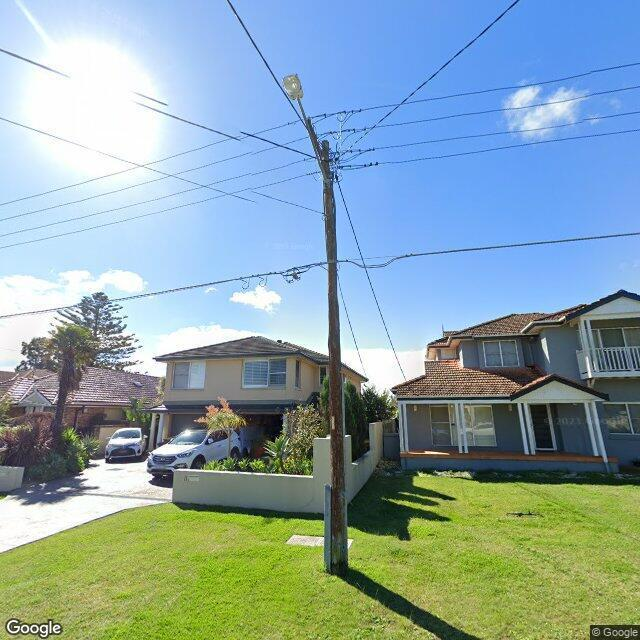crossarm: (304, 115, 322, 172)
streetlight: (282, 74, 329, 186)
timber-pole: (322, 140, 349, 574)
